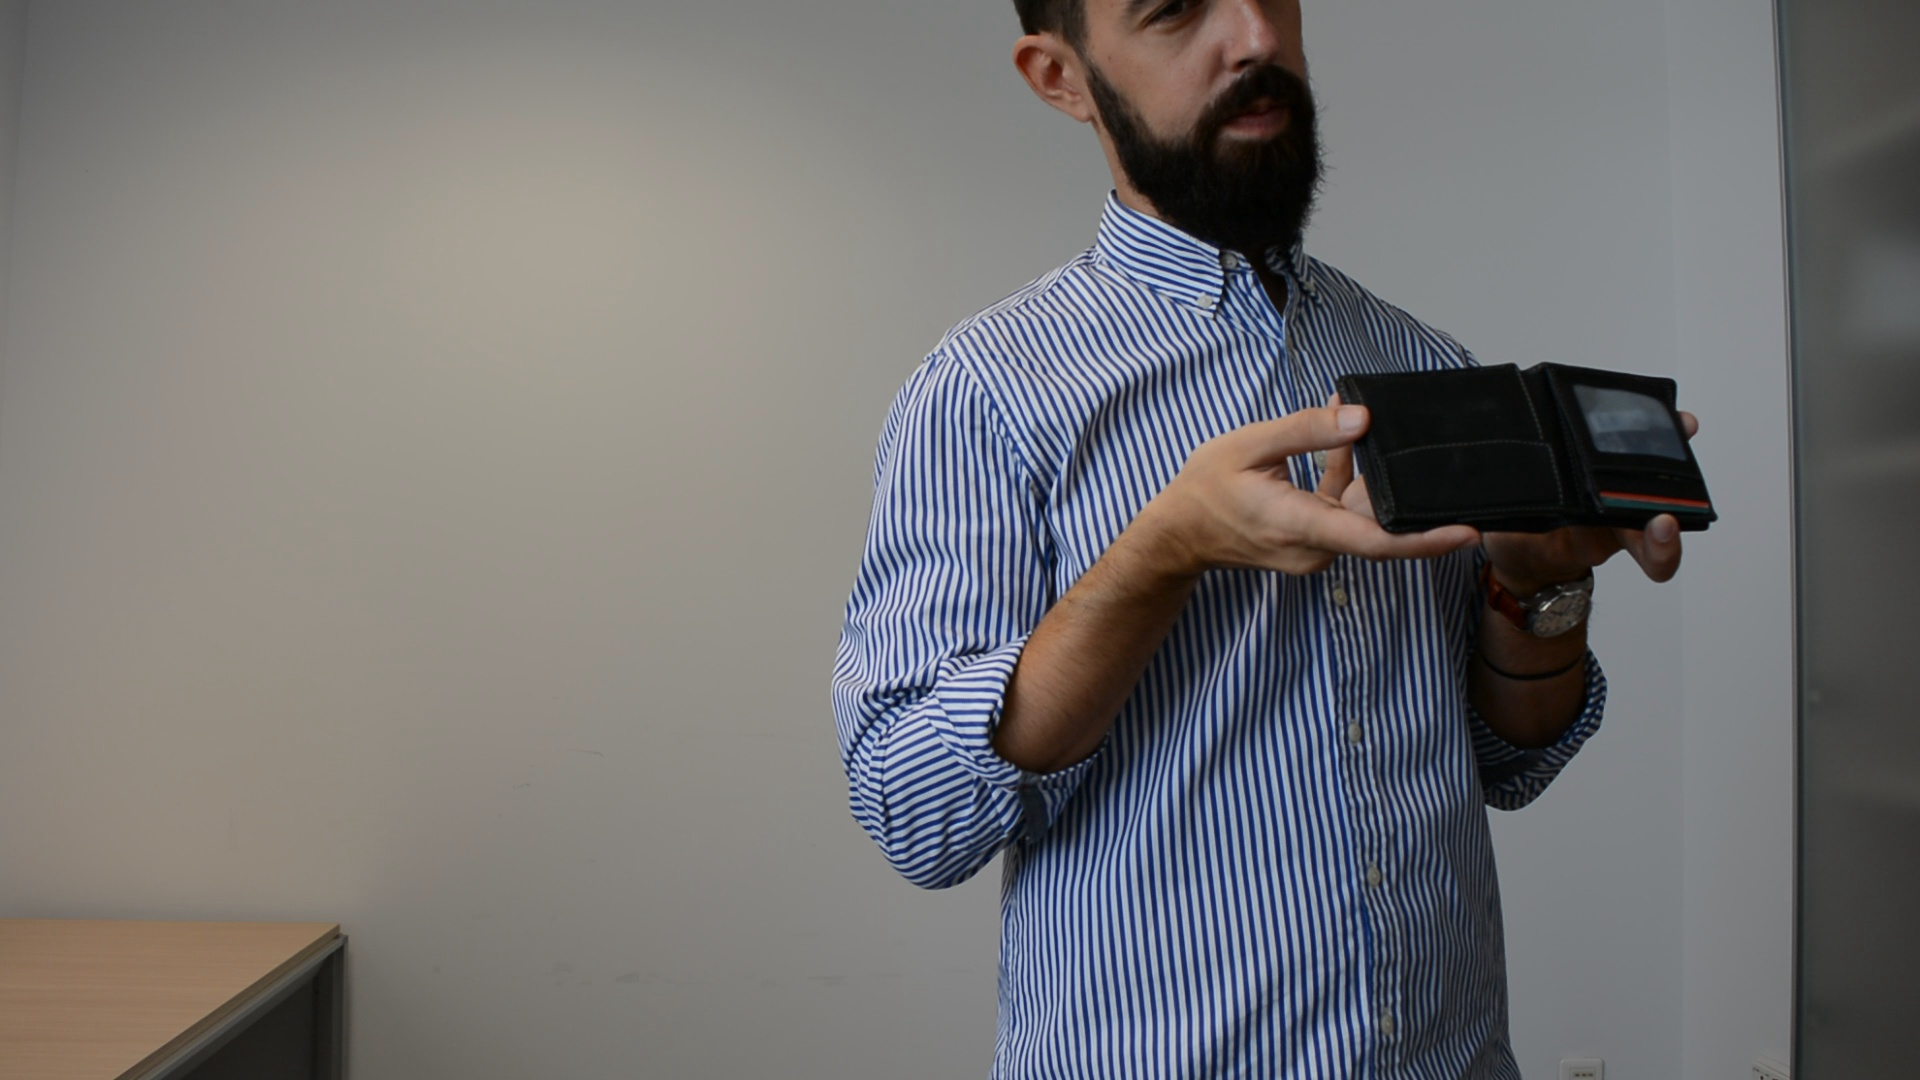monedero: (1331, 357, 1721, 539)
